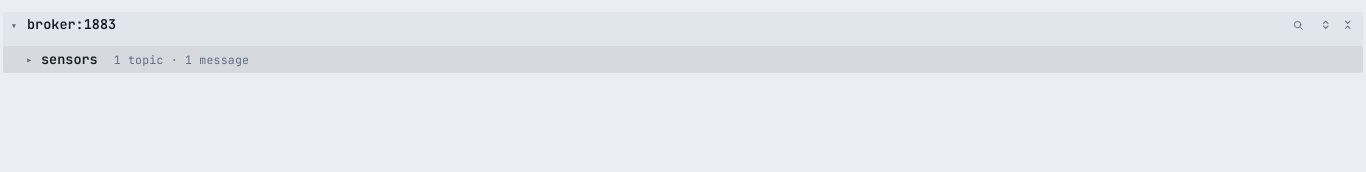
TopicTree › drops the rows again when the branch is collapsed
Click the button named "Expand sensors": coordinates (28, 60) [23, 55, 33, 65]
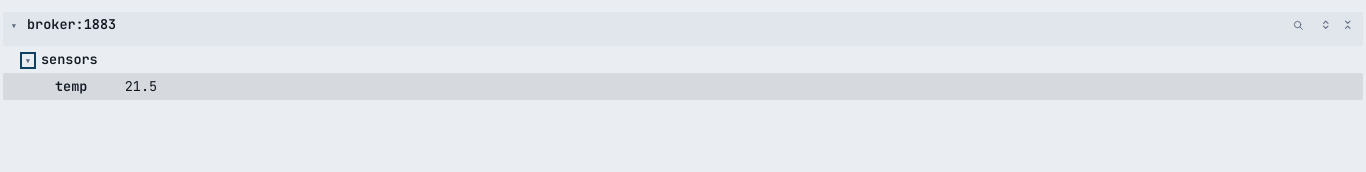
Click the button named "Collapse sensors": coordinates (28, 60) [23, 55, 33, 65]
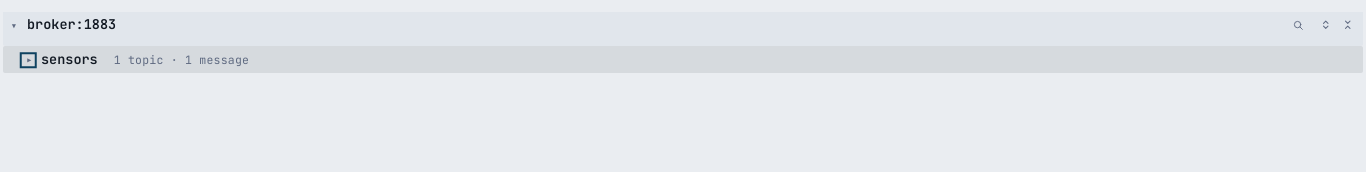
Expected: the button "temp" is gone
